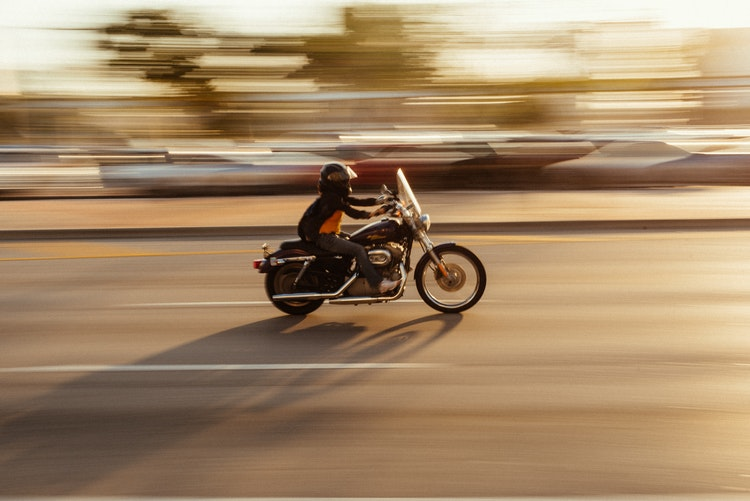helmet: (316, 157, 352, 195)
